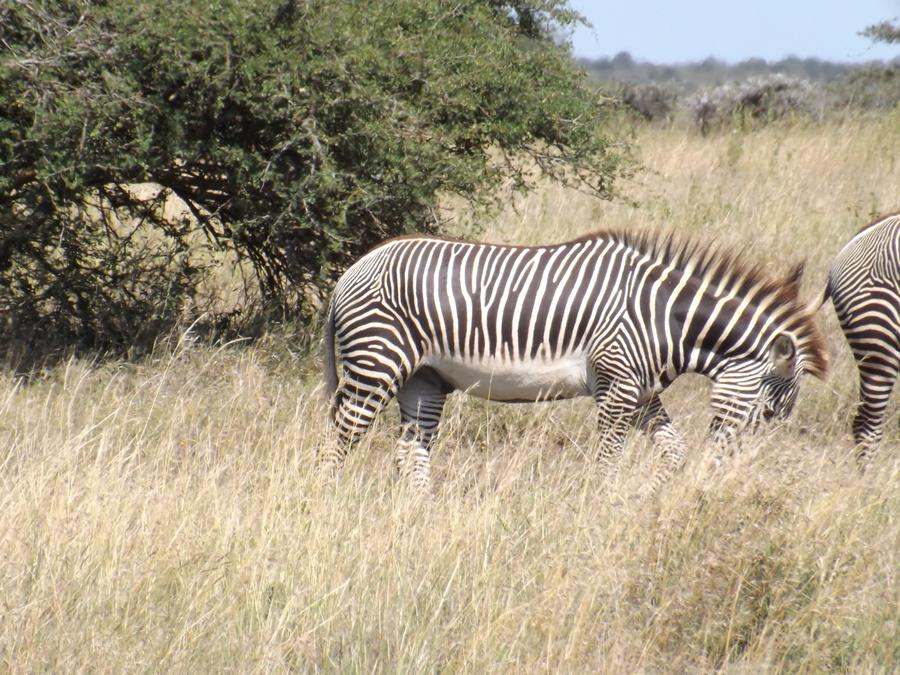zebra_grevys: (326, 197, 656, 400)
